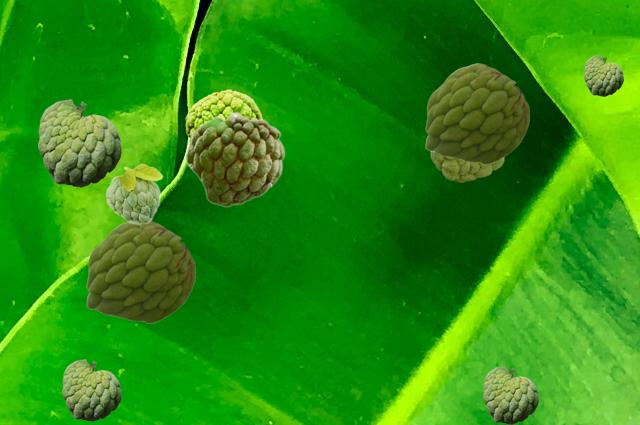atis: (86, 221, 194, 322), (425, 63, 528, 163), (184, 111, 284, 206), (38, 99, 120, 186), (185, 89, 262, 141), (62, 359, 120, 420), (105, 163, 162, 224), (483, 366, 537, 423), (430, 152, 504, 181), (584, 55, 622, 95)
